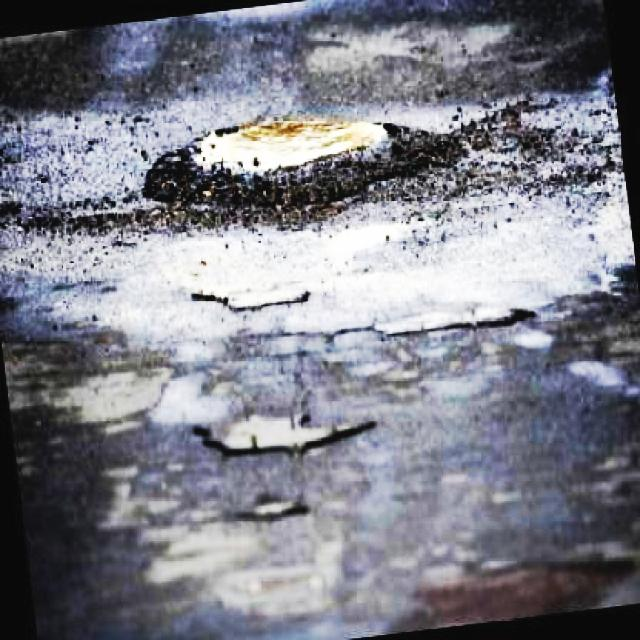pothole: (134, 112, 452, 212), (203, 412, 342, 457), (178, 274, 312, 309)
